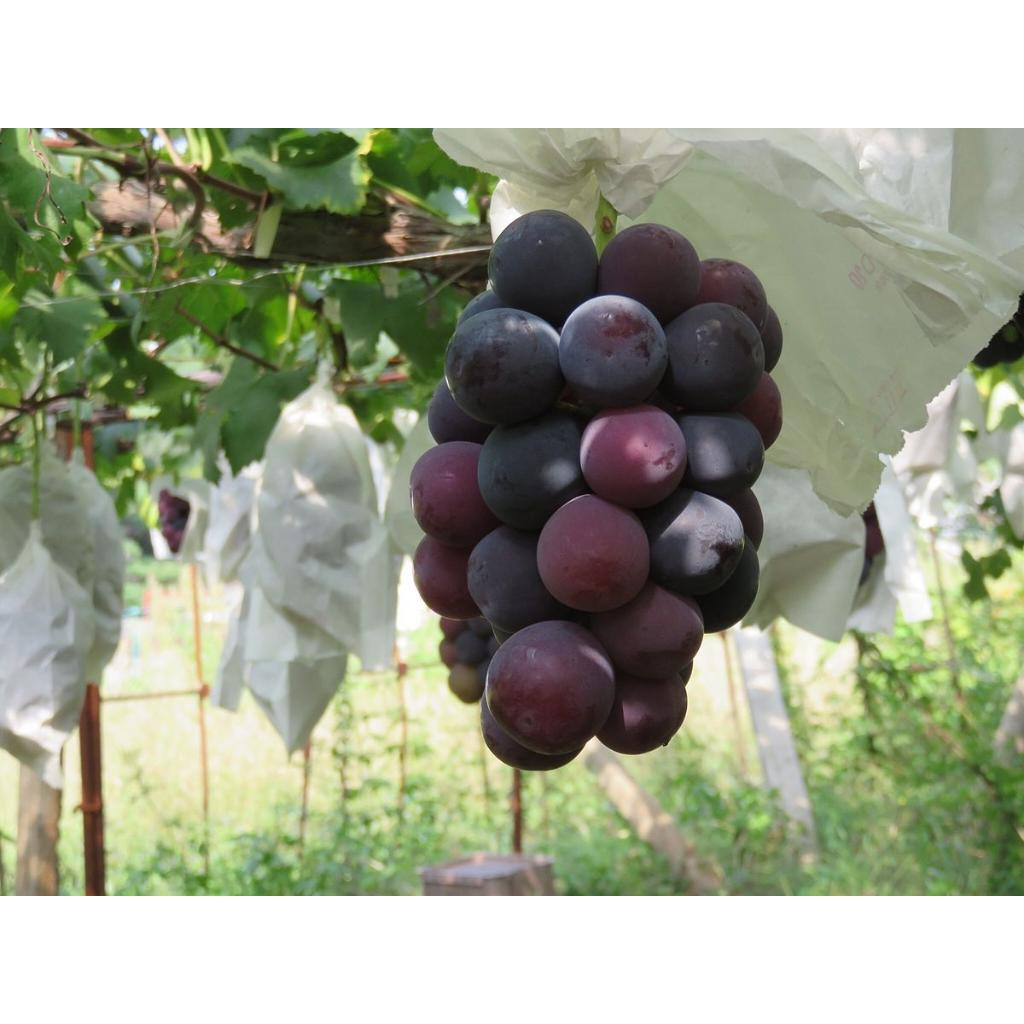grape: (410, 209, 781, 769)
